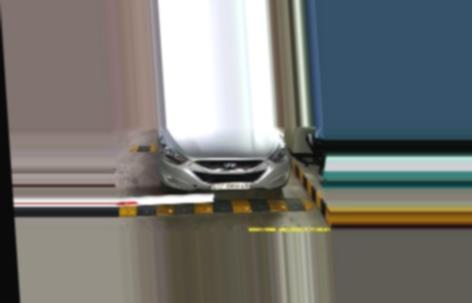License_Plate: (211, 181, 255, 192)
